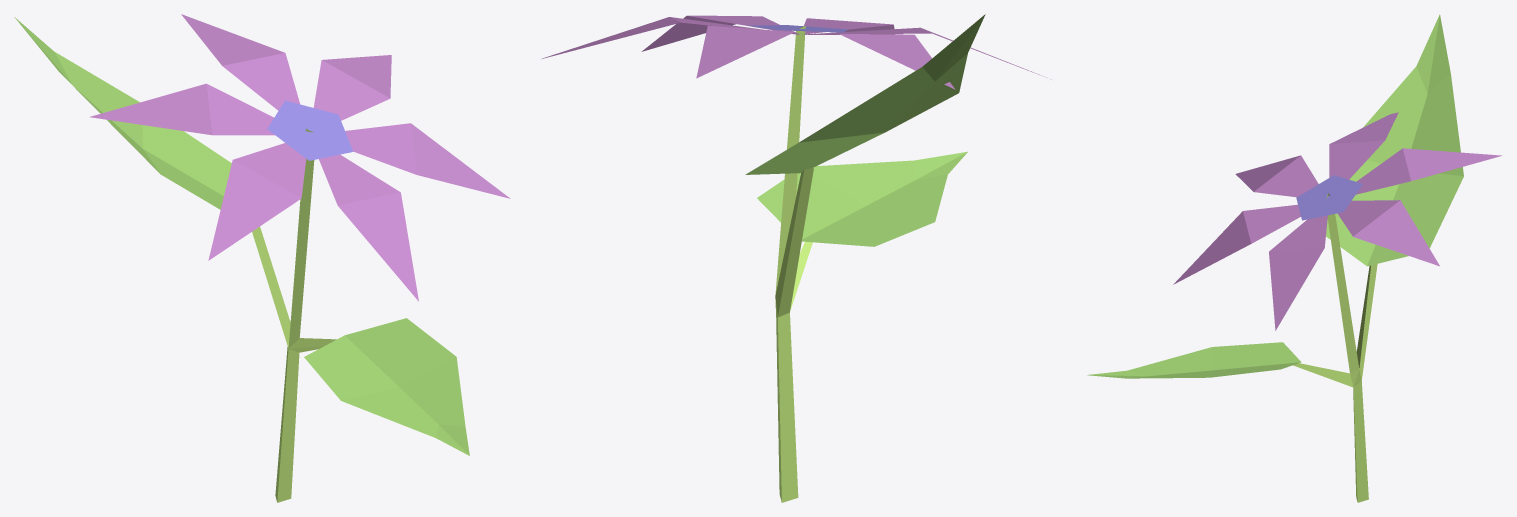
Rendered from Flower_b_TwoS_09.fbx.
3 views of the same model, side by side, from view 1: azimuth 30°, elevation 25°; view 2: azimuth 150°, elevation 25°; view 3: azimuth 270°, elevation 25° (orthographic). The views are drawn at different scales.
Parts seen in each view (by area): view 1: Flower_b_TwoS_09; view 2: Flower_b_TwoS_09; view 3: Flower_b_TwoS_09.
Boxes of the visible parts, box(x1,y1,x2,y2) form: Flower_b_TwoS_09: box(14, 14, 510, 502); Flower_b_TwoS_09: box(542, 14, 1050, 502); Flower_b_TwoS_09: box(1087, 14, 1501, 502).
Size of the model in its own units: 40.48 by 49.03 by 46.18.
